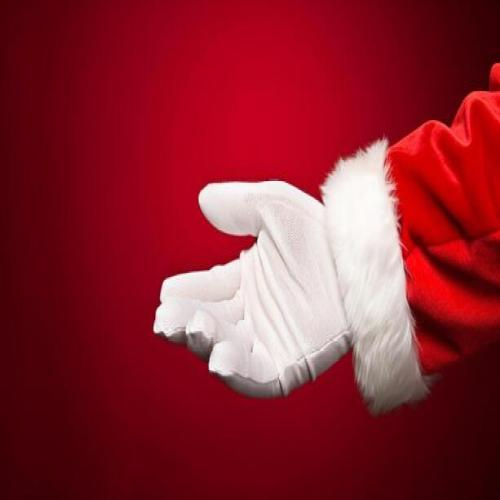Santa: (133, 54, 500, 412)
